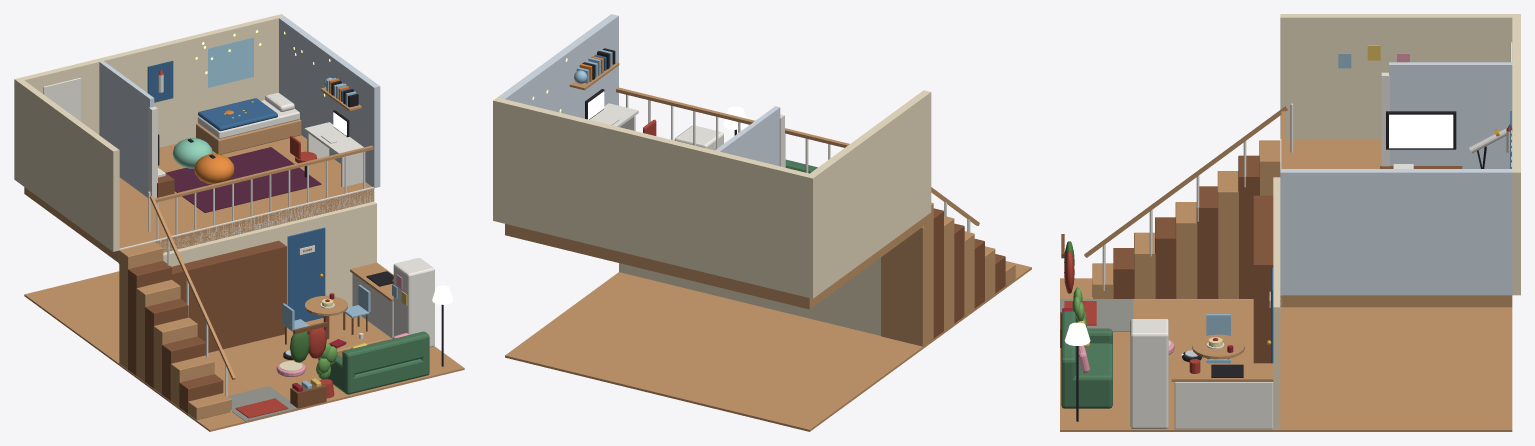
File: arvid-home.glb
The picture shows the model from 3 angles, left to right: view 1: azimuth 30°, elevation 25°; view 2: azimuth 150°, elevation 25°; view 3: azimuth 270°, elevation 25°; orthographic projection. The views are drawn at different scales.
Parts seen in each view (by area): view 1: UpWall_back, Floor_ground, UpWall_left, Floor_upper, bookcase_long, UpWall_right, Wall_under_upper, UpWall_div_a, arvid_rug, fridge, study_door, upper_edge (+34 smaller); view 2: UpWall_back, Floor_ground, UpWall_left, stair.008, UpWall_right, Wall_under_upper, Floor_upper, UpWall_div_a, stair.007, stair.006, rail_top, stair.005 (+5 smaller); view 3: Floor_ground, UpWall_right, UpWall_left, UpWall_div_a, Floor_upper, kitchen_counter, fridge, bookcase_long, stair.006, UpWall_back, stair.005, stair.007 (+20 smaller).
Boxes of the visible parts, box(x1,y1,x2,y2) form: UpWall_back: box(14, 14, 284, 181); Floor_ground: box(24, 271, 464, 431); UpWall_left: box(18, 80, 119, 251); Floor_upper: box(24, 135, 374, 263); bookcase_long: box(172, 240, 286, 352); UpWall_right: box(279, 16, 380, 188); Wall_under_upper: box(163, 201, 376, 307); UpWall_div_a: box(99, 61, 154, 197); arvid_rug: box(165, 147, 321, 212); fridge: box(393, 258, 434, 347); study_door: box(287, 227, 325, 321); upper_edge: box(118, 187, 374, 264); UpWall_back: box(493, 97, 817, 298); Floor_ground: box(505, 261, 1031, 431); UpWall_left: box(810, 90, 931, 295); stair.008: box(881, 202, 933, 346); UpWall_right: box(497, 14, 618, 118); Wall_under_upper: box(619, 257, 880, 335); Floor_upper: box(505, 218, 923, 309); UpWall_div_a: box(715, 106, 780, 166); stair.007: box(933, 208, 943, 338); stair.006: box(944, 216, 954, 330); rail_top: box(616, 87, 849, 147); stair.005: box(954, 223, 964, 323); Floor_ground: box(1060, 278, 1512, 431); UpWall_right: box(1280, 169, 1512, 295); UpWall_left: box(1280, 14, 1512, 139); UpWall_div_a: box(1389, 62, 1512, 168); Floor_upper: box(1280, 140, 1512, 307); kitchen_counter: box(1174, 382, 1273, 429); fridge: box(1130, 319, 1168, 428); bookcase_long: box(1253, 195, 1273, 363); stair.006: box(1217, 171, 1238, 298); UpWall_back: box(1512, 14, 1520, 295); stair.005: box(1196, 186, 1218, 298); stair.007: box(1238, 155, 1259, 298).
Size of the model in its own units: 6.4 by 4.94 by 7.85.
